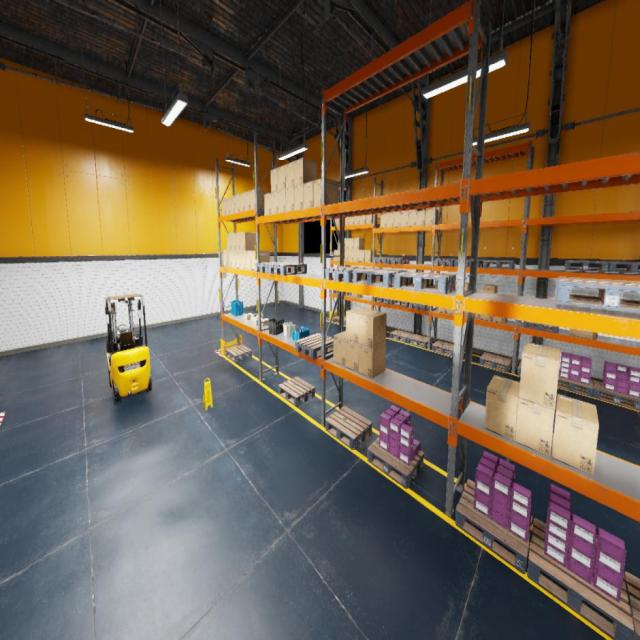box: (552, 394, 599, 475), (520, 342, 561, 410), (515, 397, 555, 456), (485, 375, 520, 441), (359, 310, 386, 348), (359, 342, 386, 378), (346, 308, 371, 343), (314, 178, 338, 207), (294, 158, 317, 186), (346, 340, 359, 372), (334, 331, 345, 366), (250, 189, 269, 209), (251, 250, 270, 269), (569, 328, 598, 339), (240, 232, 256, 251), (304, 181, 313, 209), (294, 184, 303, 210), (286, 161, 294, 188), (286, 186, 294, 212), (425, 209, 438, 225), (278, 165, 286, 190), (270, 167, 278, 192), (278, 189, 286, 213), (271, 190, 278, 213), (264, 193, 271, 215), (246, 250, 254, 269), (365, 249, 376, 262), (483, 284, 497, 294), (417, 210, 425, 225), (401, 212, 409, 227), (408, 211, 416, 226), (244, 191, 250, 210), (234, 194, 240, 213), (354, 238, 364, 249), (394, 213, 401, 228), (386, 214, 394, 227), (240, 251, 246, 268), (230, 233, 236, 250), (239, 192, 244, 212), (366, 214, 377, 223), (493, 316, 507, 323), (230, 196, 235, 214), (225, 198, 230, 215), (236, 251, 241, 268), (481, 314, 493, 321), (359, 249, 365, 262), (353, 249, 359, 262), (254, 317, 263, 325), (232, 250, 236, 268), (236, 232, 240, 250), (348, 249, 354, 261), (228, 250, 232, 267), (227, 233, 231, 250), (348, 238, 354, 249), (381, 214, 386, 227), (222, 199, 226, 215), (224, 250, 228, 266), (261, 318, 269, 325), (254, 312, 263, 318), (438, 307, 447, 313), (360, 215, 366, 224), (409, 208, 422, 212), (251, 313, 258, 320), (344, 249, 348, 261), (355, 216, 360, 225), (245, 314, 252, 320), (447, 309, 454, 315), (352, 294, 362, 298), (474, 314, 482, 319), (334, 250, 338, 260), (344, 238, 348, 248), (464, 283, 469, 290), (349, 217, 354, 224), (334, 218, 338, 226), (345, 218, 349, 225), (338, 250, 340, 260), (338, 240, 340, 249), (455, 281, 457, 289), (464, 312, 466, 316)
forklift: (105, 294, 152, 402)
pallets: (527, 518, 634, 639), (455, 479, 532, 575), (555, 277, 640, 313), (368, 437, 423, 488), (325, 406, 372, 450), (593, 380, 640, 410), (394, 272, 456, 294), (624, 572, 640, 640), (278, 377, 314, 406), (294, 333, 334, 359), (353, 269, 408, 287), (558, 371, 594, 397), (326, 267, 373, 282), (480, 352, 512, 372), (565, 260, 609, 272), (268, 263, 307, 275), (226, 345, 252, 362), (523, 321, 559, 333), (432, 340, 454, 357), (254, 262, 290, 272), (407, 334, 432, 348), (608, 262, 640, 272), (389, 330, 414, 342), (482, 260, 514, 269), (454, 260, 485, 268), (409, 302, 433, 310), (434, 258, 458, 266), (390, 299, 409, 307), (387, 258, 409, 264), (373, 257, 394, 263), (374, 297, 391, 304), (333, 316, 346, 325), (333, 290, 351, 296), (516, 362, 522, 376)
